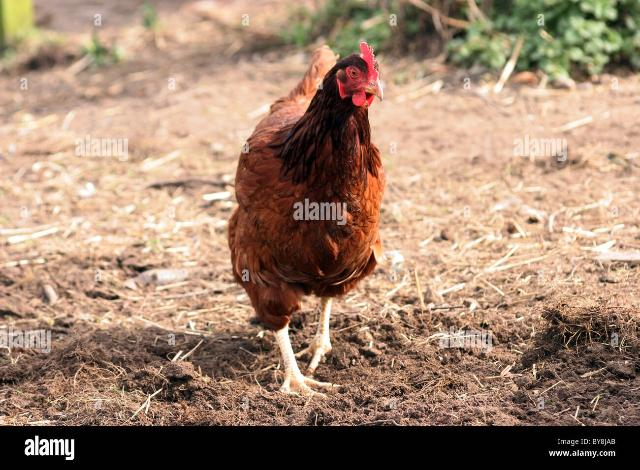Chicken: (226, 41, 388, 397)
